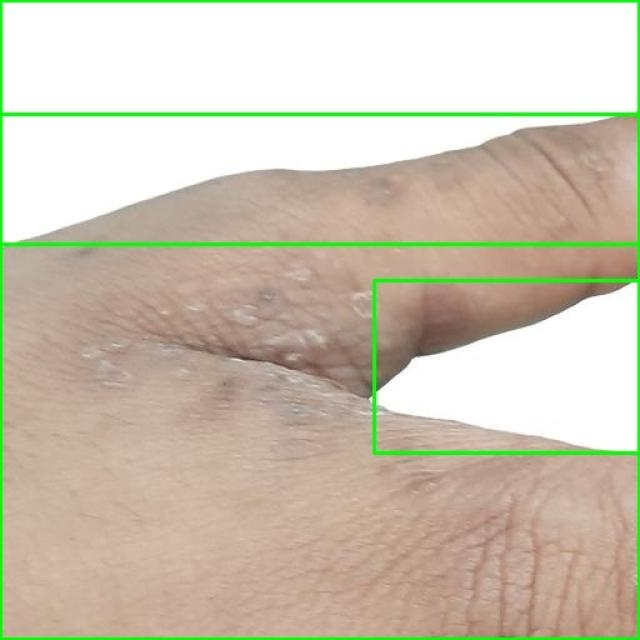Scabies: (0, 114, 639, 639), (0, 0, 639, 244), (374, 280, 639, 452)
